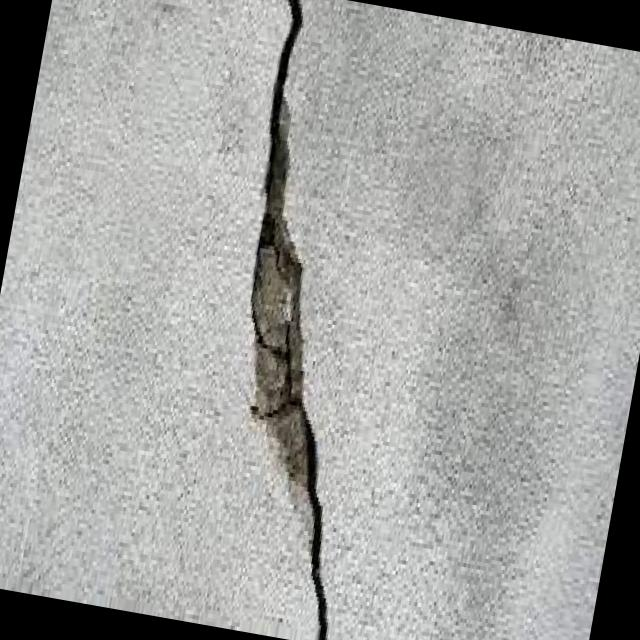crack: (179, 0, 440, 640)
